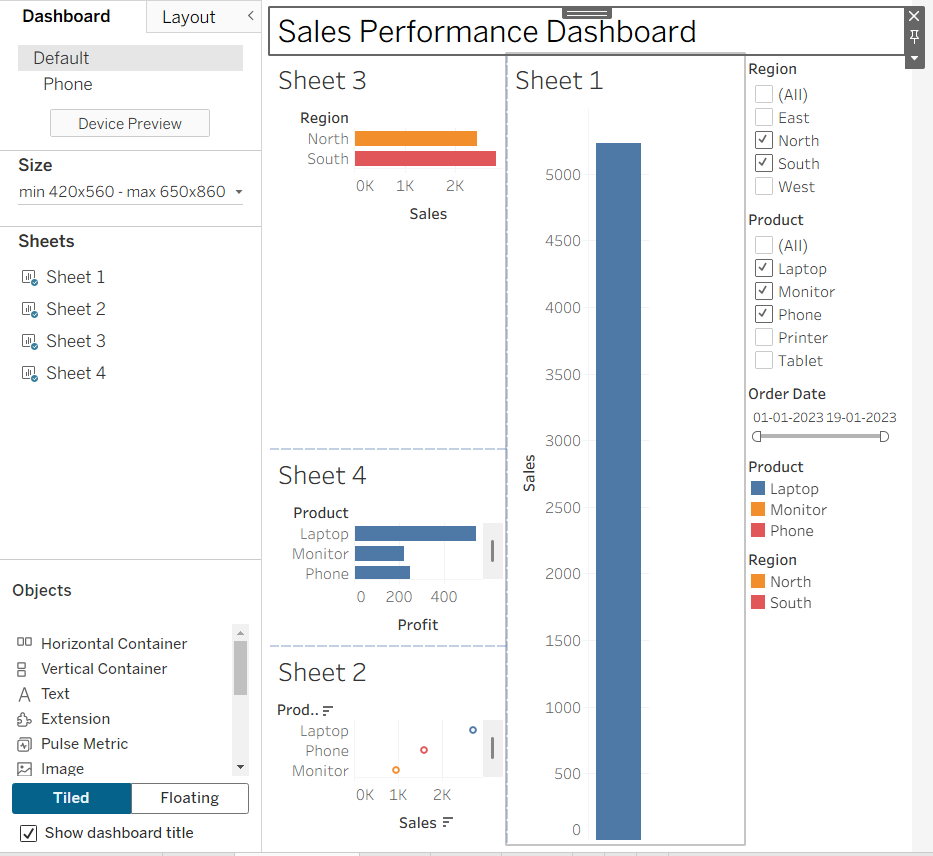

This screenshot's page, from the dashboard's own definition file:
{"tool":"tableau","page":{"name":"Dashboard 1","canvas":[650,860],"ordinal":0},"visuals":[{"type":"title","box":[8,8.1,634,46.4]},{"type":"worksheet","title":"Sheet 3","mark":"Automatic","rows":["Region"],"cols":["Sales"],"box":[8,54.5,237,398.7]},{"type":"worksheet","title":"Sheet 1","mark":"Bar","rows":["Sales"],"box":[245,54.5,237,797.4]},{"type":"filter","title":"Sheet 1","param":"[federated.013vlmc1avtyed1fexbiw09cp701].[none:Region:nk]","box":[482,54.5,160,152.4]},{"type":"filter","title":"Sheet 1","param":"[federated.013vlmc1avtyed1fexbiw09cp701].[none:Product:nk]","box":[482,206.9,160,175.6]},{"type":"filter","title":"Sheet 1","param":"[federated.013vlmc1avtyed1fexbiw09cp701].[none:Order Date:qk]","box":[482,382.6,160,73.7]},{"type":"worksheet","title":"Sheet 4","mark":"Automatic","rows":["Product"],"cols":["Profit"],"box":[8,453.2,237,199.3]},{"type":"legend","title":"Sheet 2","param":"[federated.013vlmc1avtyed1fexbiw09cp701].[none:Product:nk]","box":[482,456.2,160,93.9]},{"type":"legend","title":"Sheet 3","param":"[federated.013vlmc1avtyed1fexbiw09cp701].[none:Region:nk]","box":[482,550.1,160,72.7]},{"type":"legend","title":"Sheet 4","param":"[federated.013vlmc1avtyed1fexbiw09cp701].[sum:Profit:qk]","box":[482,622.8,160,24.2]},{"type":"worksheet","title":"Sheet 2","mark":"Shape","rows":["Product"],"cols":["Sales"],"box":[8,652.5,237,199.4]}]}

Visuals, with their boxes on the page's 650x860 design canvas (x1, y1, x2, y2). These are canvas units, not pixel positions in the 933x856 screenshot, which may show the page scaled, cropped or inside an application window:
title: x1=8 y1=8 x2=642 y2=54
"Sheet 3" worksheet: x1=8 y1=54 x2=245 y2=453
"Sheet 1" worksheet (Bar marks): x1=245 y1=54 x2=482 y2=852
"Sheet 1" filter: x1=482 y1=54 x2=642 y2=207
"Sheet 1" filter: x1=482 y1=207 x2=642 y2=382
"Sheet 1" filter: x1=482 y1=383 x2=642 y2=456
"Sheet 4" worksheet: x1=8 y1=453 x2=245 y2=652
"Sheet 2" legend: x1=482 y1=456 x2=642 y2=550
"Sheet 3" legend: x1=482 y1=550 x2=642 y2=623
"Sheet 4" legend: x1=482 y1=623 x2=642 y2=647
"Sheet 2" worksheet (Shape marks): x1=8 y1=652 x2=245 y2=852
